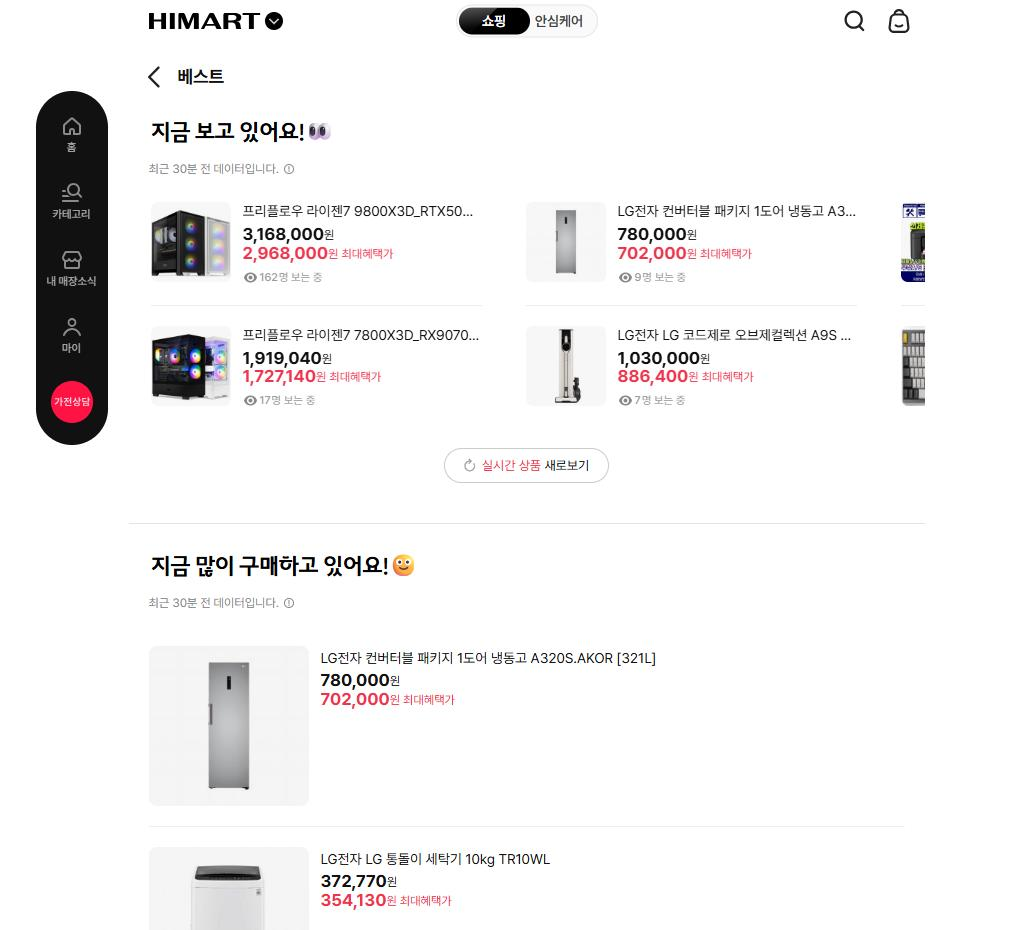button: (446, 448, 601, 481), (46, 249, 103, 294), (53, 101, 94, 153), (458, 5, 529, 34), (59, 315, 95, 362), (50, 178, 91, 216), (535, 5, 589, 31), (836, 3, 873, 36), (144, 62, 178, 90), (49, 380, 81, 409), (884, 11, 915, 35)
